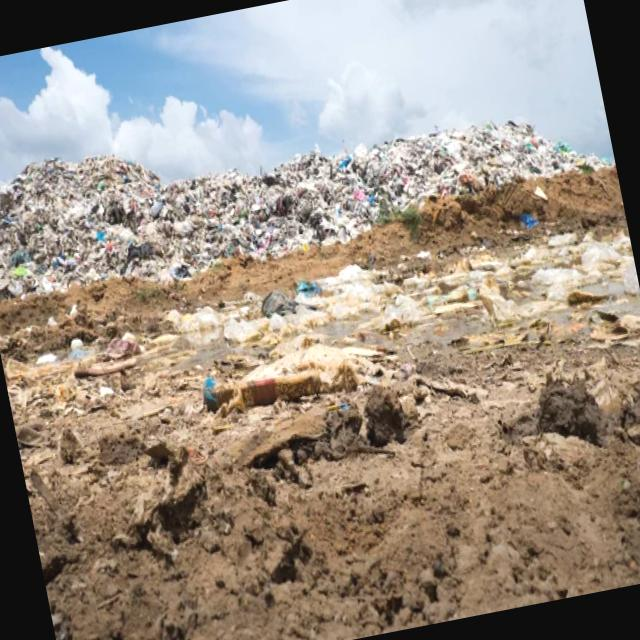garbage: (0, 45, 640, 427)
